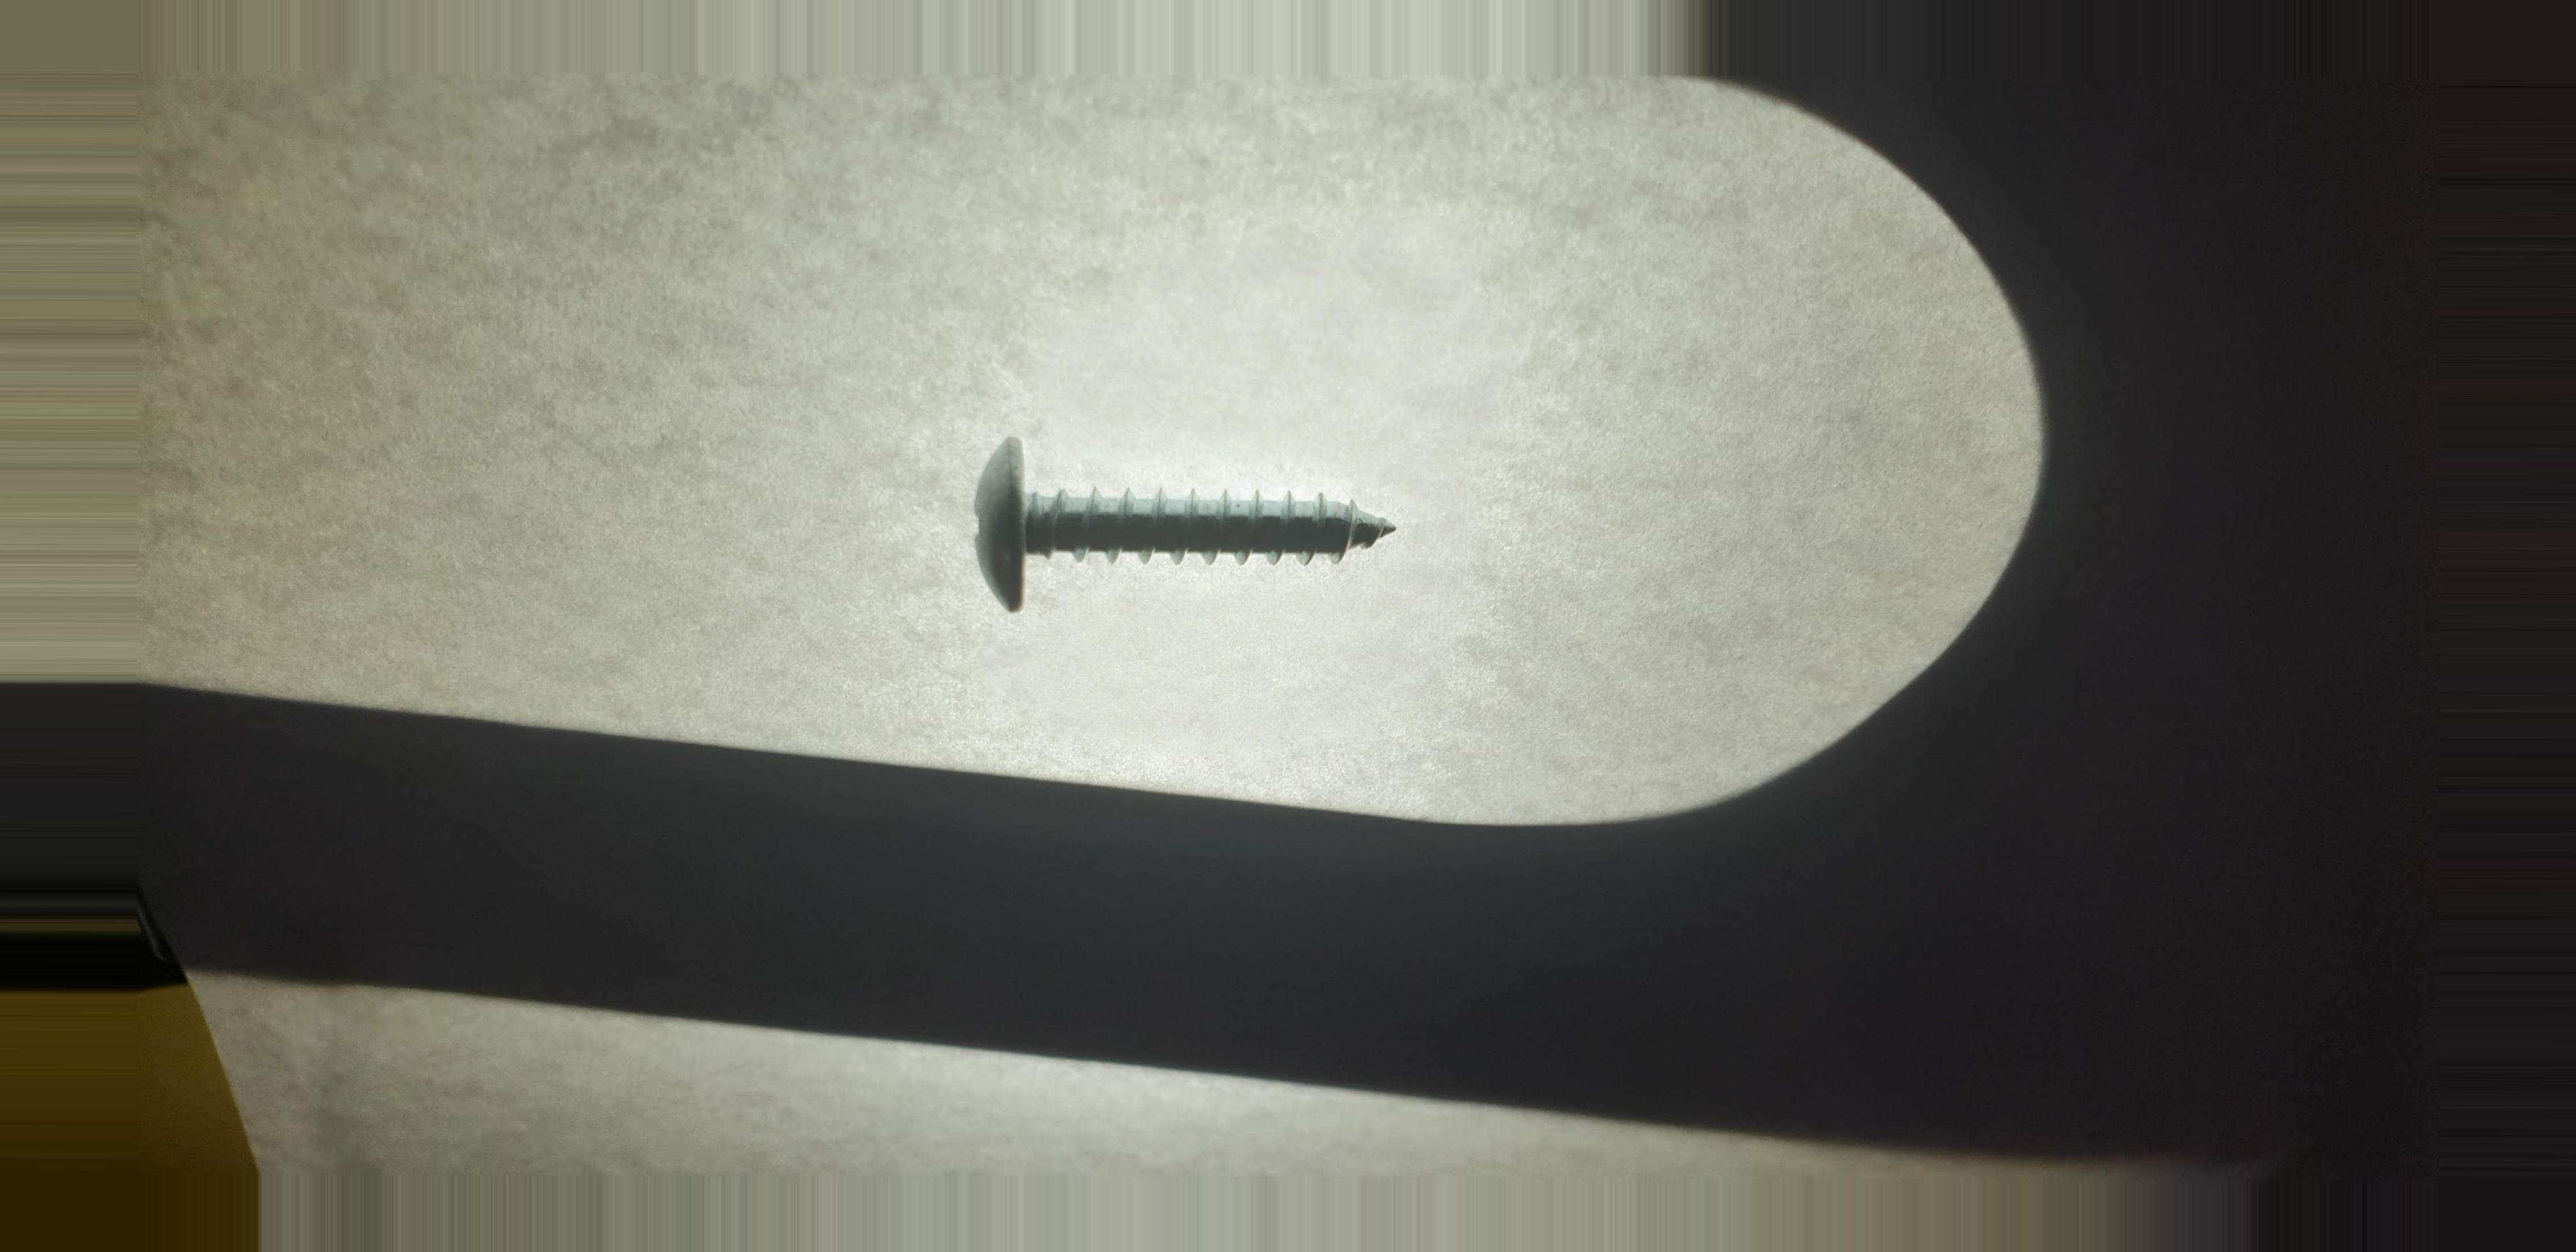S002: (959, 409, 1416, 619)
